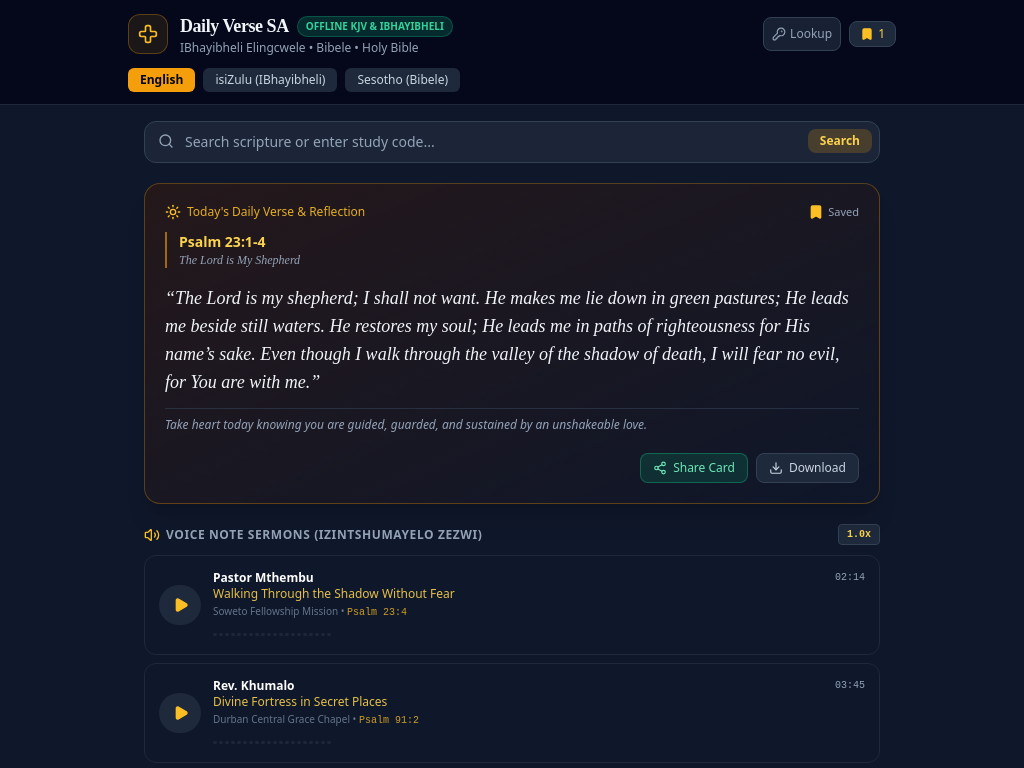
it: DailyDevotionalFacade Component (Step 1 Camouflage Facade) › toggles bookmarks and increments/decrements saved counter
Expected: the element titled "Saved verses" reads "1", x1=878 y1=25 x2=885 y2=42
Note: Click bookmark button on current verse to remove it
Click the button named "Remove bookmark" at x=834, y=212, box x1=808 y1=204 x2=859 y2=220
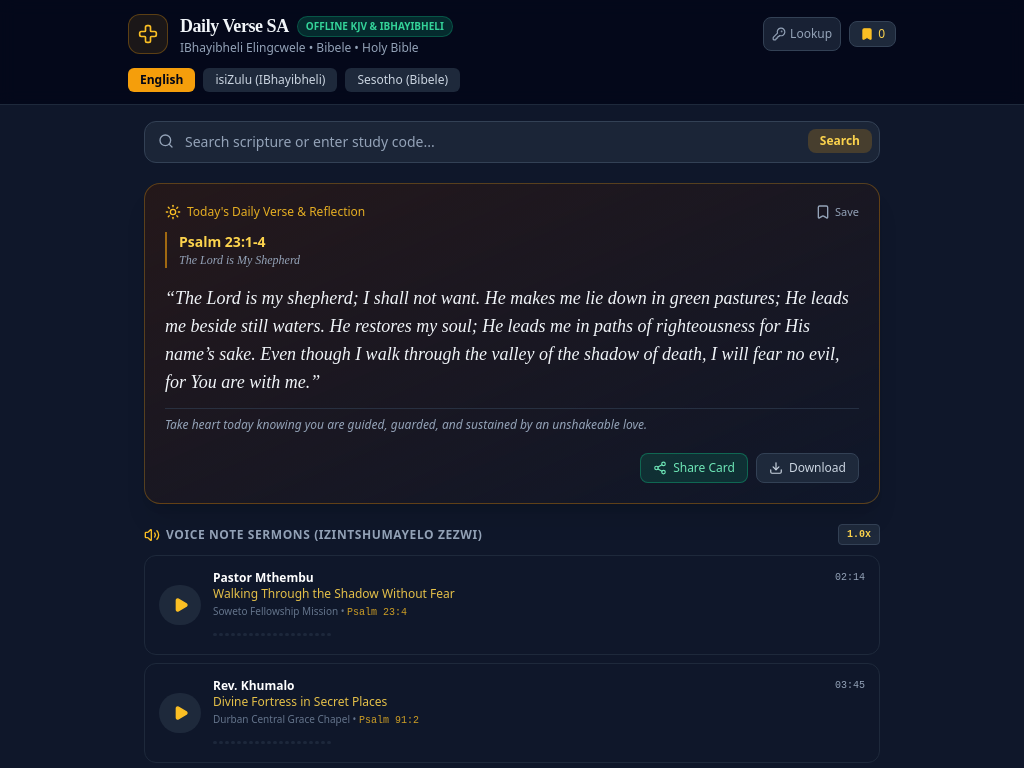
Expected: the element titled "Saved verses" reads "0", x1=878 y1=25 x2=885 y2=42
Note: Re-add bookmark
Click the button named "Bookmark verse" at x=837, y=212, box x1=815 y1=204 x2=859 y2=220
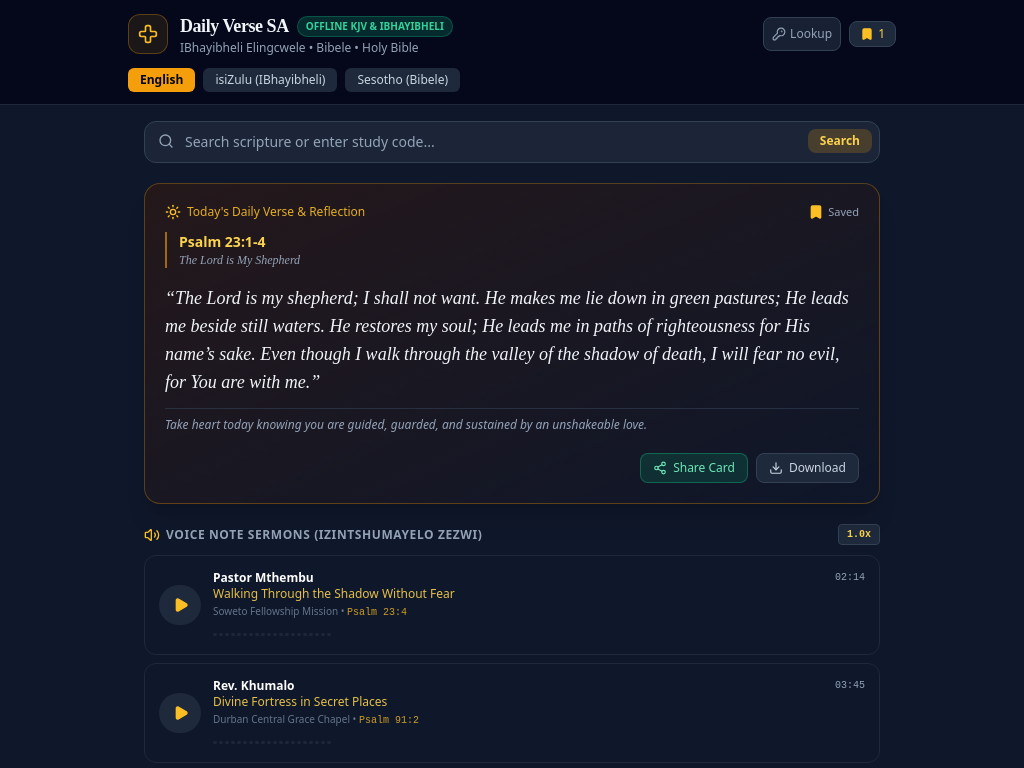
Expected: the element titled "Saved verses" reads "1", x1=878 y1=25 x2=885 y2=42
